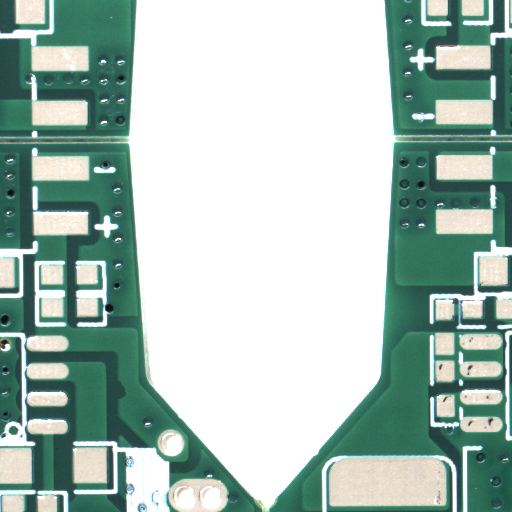Mouse_bite: (120, 391, 131, 412)
